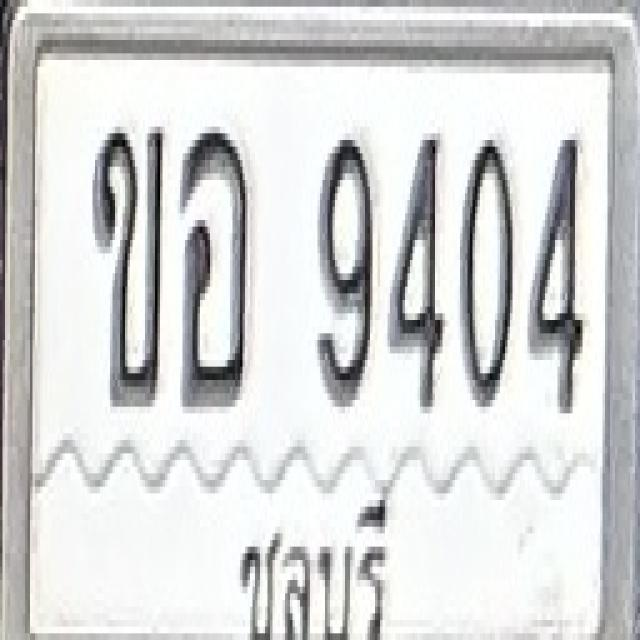-: (91, 120, 164, 407), (179, 126, 251, 406)
0: (458, 133, 514, 407)
4: (386, 123, 444, 410), (526, 127, 584, 413)
9: (316, 133, 374, 407)
CBI: (235, 482, 394, 640)
